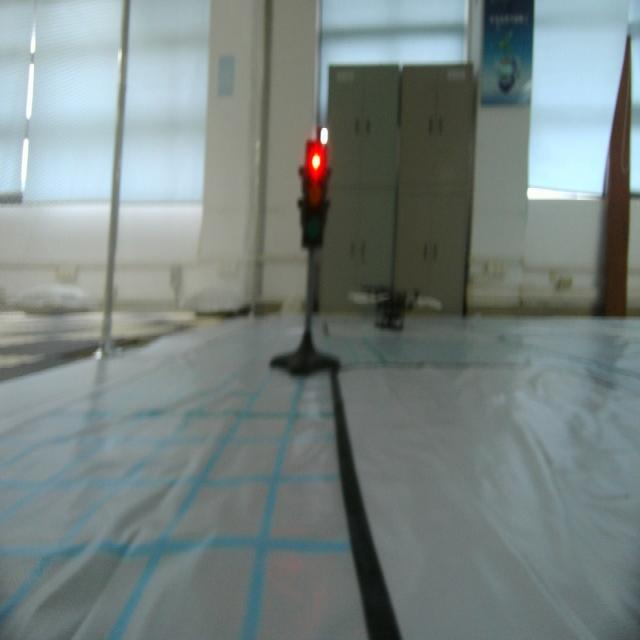red: (298, 132, 332, 250)
